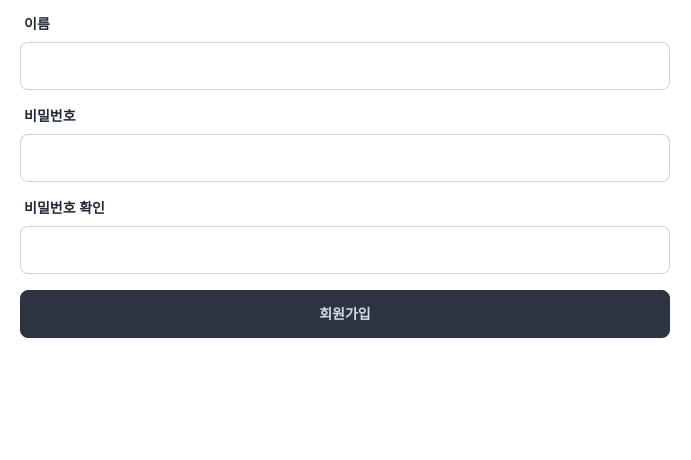
easy › 포커스하면 키패드가 열린다
The width and height of the screenshot is (691, 460).
Click the password field labelled "비밀번호": click(345, 158) [20,134,670,182]
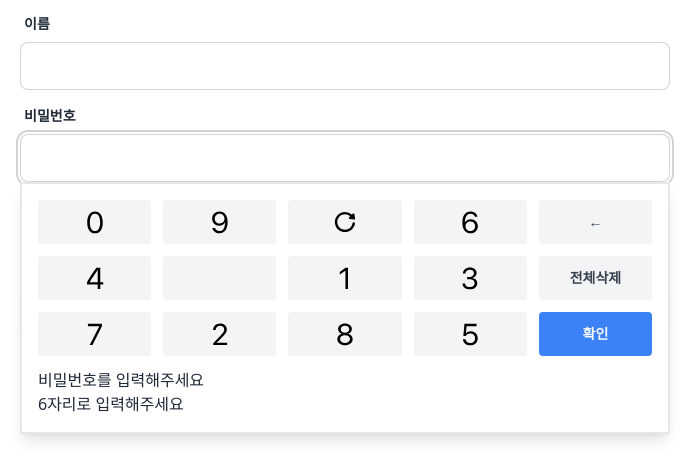
Now the text "비밀번호를 입력해주세요" is shown, box [38,369,204,391]
Now the text "6자리로 입력해주세요" is shown, box [38,393,184,415]
Now the icon with test id "0" is shown, box [85,208,105,236]
